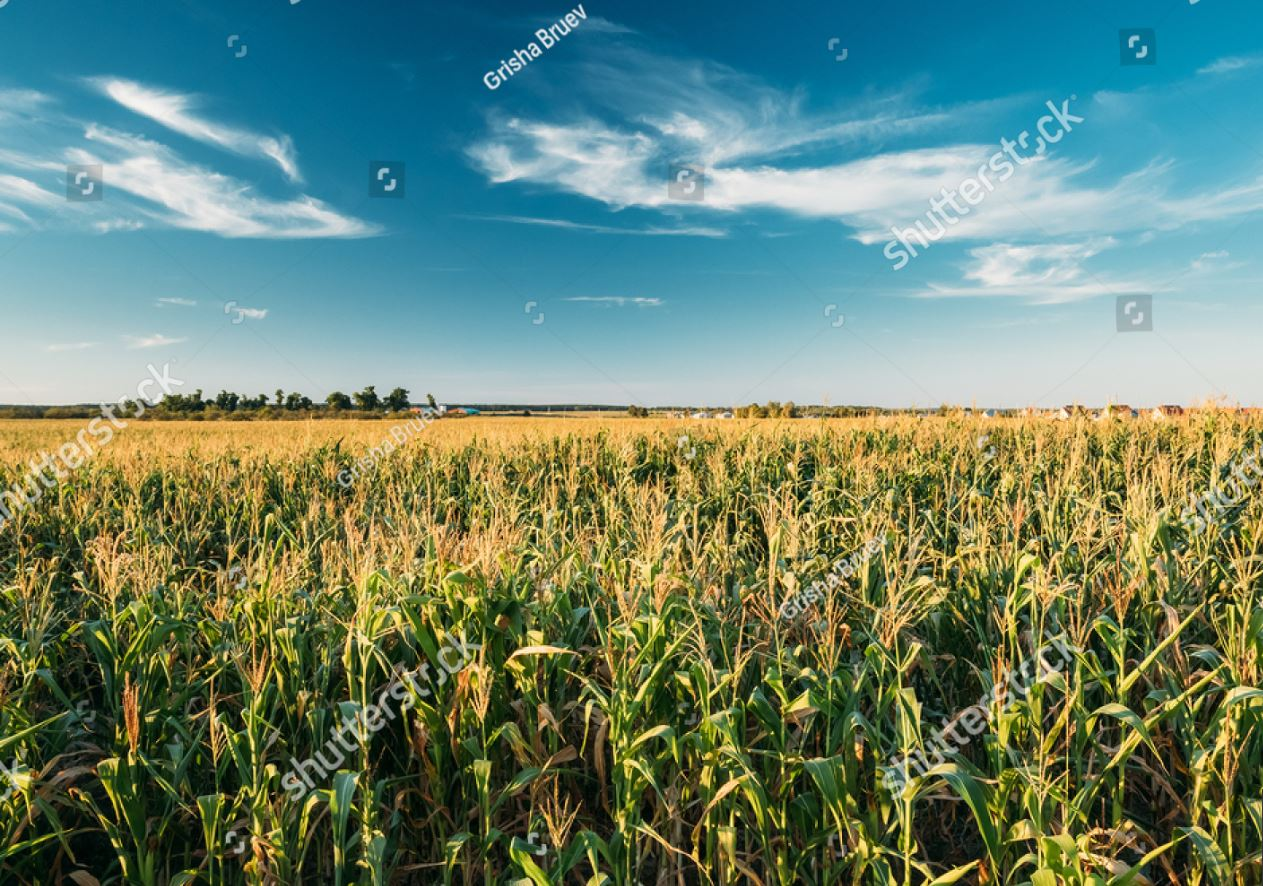Wheat: (421, 437, 1239, 729)
